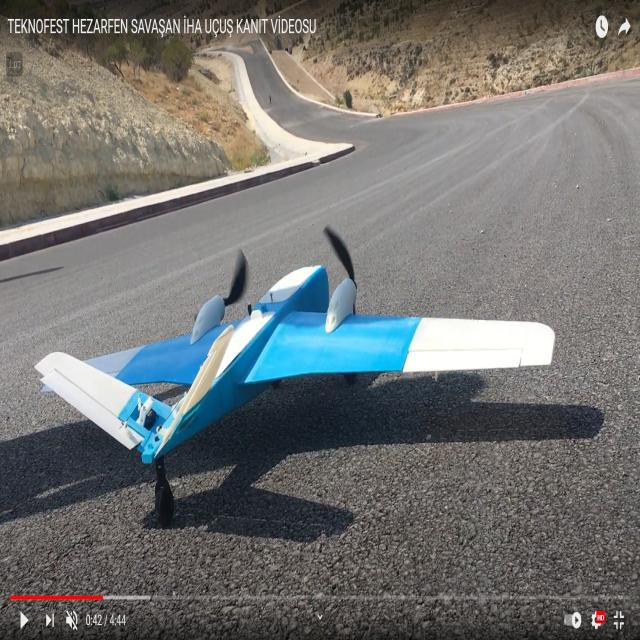iha: (40, 222, 552, 525)
